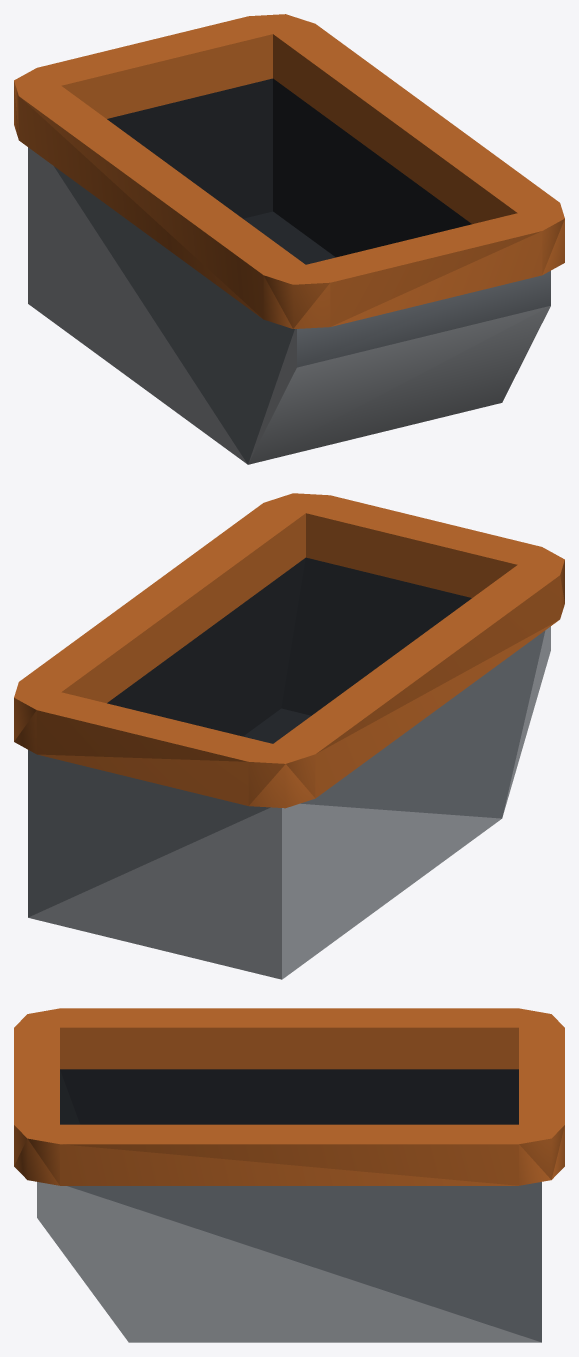
File: Kit_skip.fbx
3 views of the same model, one above another, from view 1: azimuth 30°, elevation 25°; view 2: azimuth 150°, elevation 25°; view 3: azimuth 270°, elevation 25° (orthographic). The views are drawn at different scales.
Parts seen in each view (by area): view 1: Kit_skip; view 2: Kit_skip; view 3: Kit_skip.
Part boxes in pixels (x1=…): Kit_skip: x1=14, y1=14, x2=564, y2=464; Kit_skip: x1=14, y1=493, x2=564, y2=979; Kit_skip: x1=14, y1=1008, x2=564, y2=1342.
Bounding box in the file's own units: 0.7 × 0.5 × 1.2.
